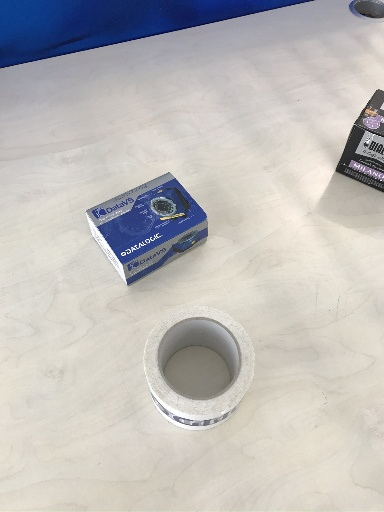Box: (80, 172, 208, 287)
Caffe: (334, 88, 384, 198)
Nastro: (140, 304, 252, 431)
